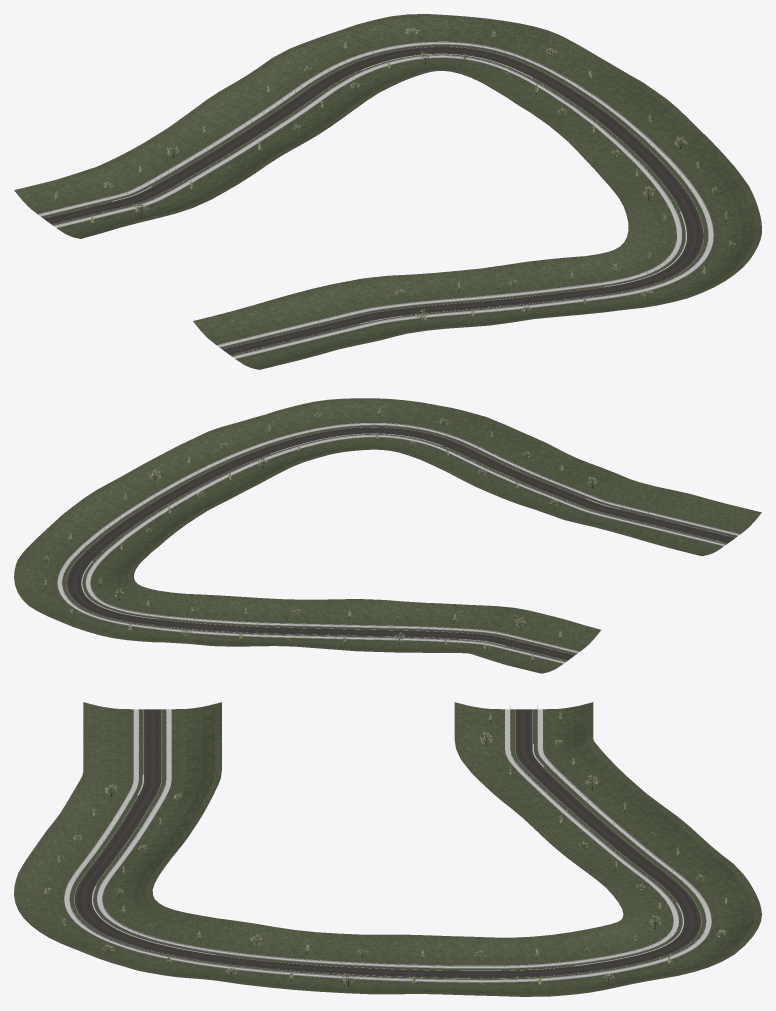
The picture shows the model from 3 angles, top to bottom: view 1: azimuth 30°, elevation 25°; view 2: azimuth 150°, elevation 25°; view 3: azimuth 270°, elevation 25°; orthographic projection. The views are drawn at different scales.
Parts seen in each view (by area): view 1: Grass, Road, Track, Trees; view 2: Grass, Road, Track, Trees; view 3: Grass, Road, Track, Trees.
Boxes of the visible parts, bbox=[...] form: Grass: bbox=[14, 14, 761, 369]; Road: bbox=[43, 46, 703, 355]; Track: bbox=[38, 41, 713, 358]; Trees: bbox=[54, 28, 735, 323]; Grass: bbox=[14, 398, 761, 673]; Road: bbox=[66, 427, 735, 660]; Track: bbox=[57, 422, 740, 663]; Trees: bbox=[42, 406, 597, 662]; Grass: bbox=[14, 702, 761, 996]; Road: bbox=[74, 709, 701, 978]; Track: bbox=[64, 706, 711, 982]; Trees: bbox=[44, 710, 727, 987].
Size of what is drawn, in the model's own units: 70406 by 2138 by 75555.
